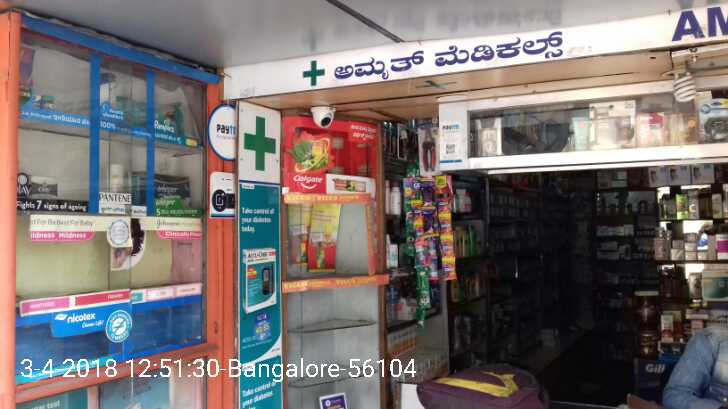vicks: (42, 94, 54, 108)
